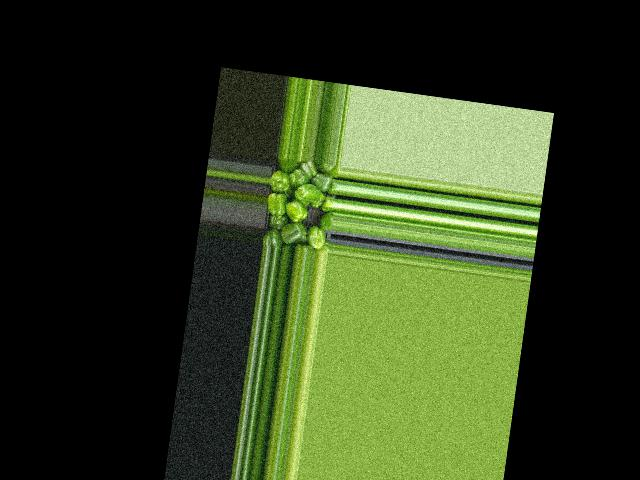bell_pepper: (281, 157, 301, 174)
